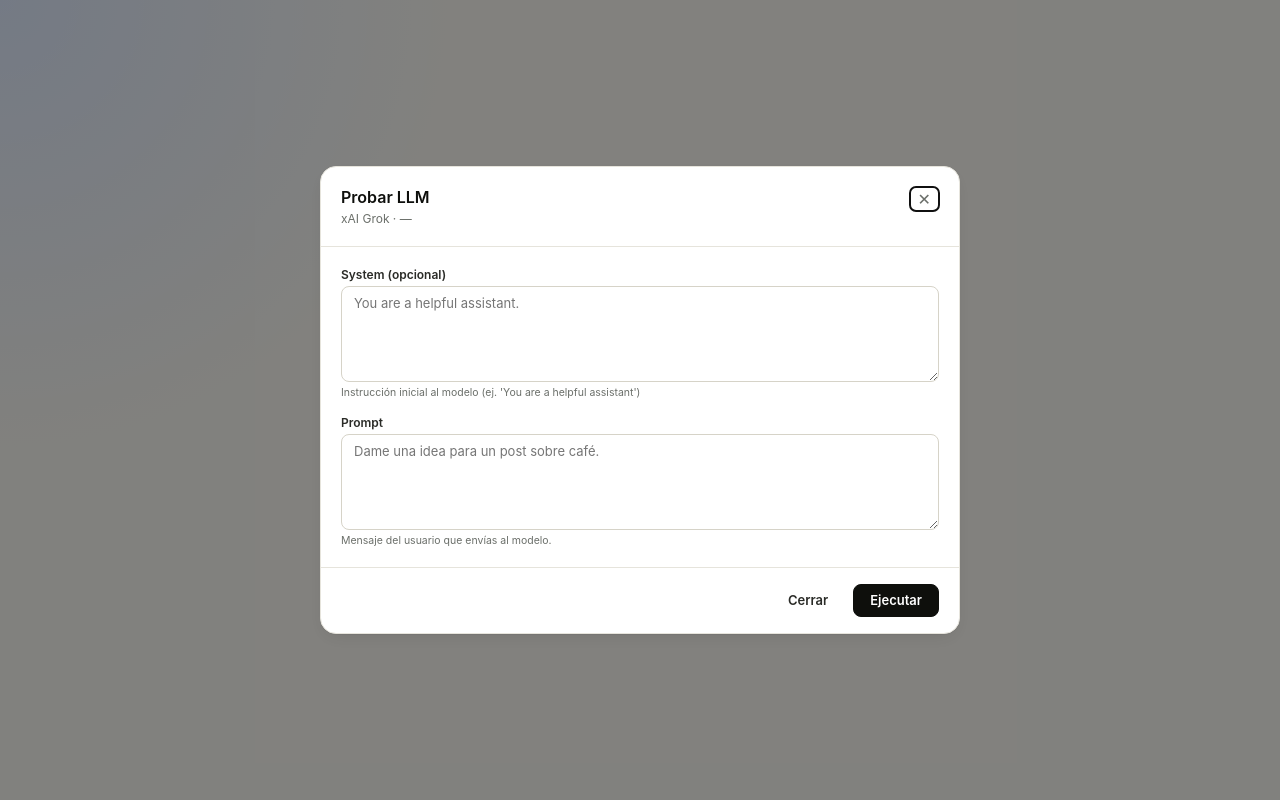
<TestProviderModal/> — render › result error path con StatusBadge FAIL
Type "hi" into the text box with placeholder "Dame una idea para un post sobre café." at [640, 482], box [341,434,939,530]
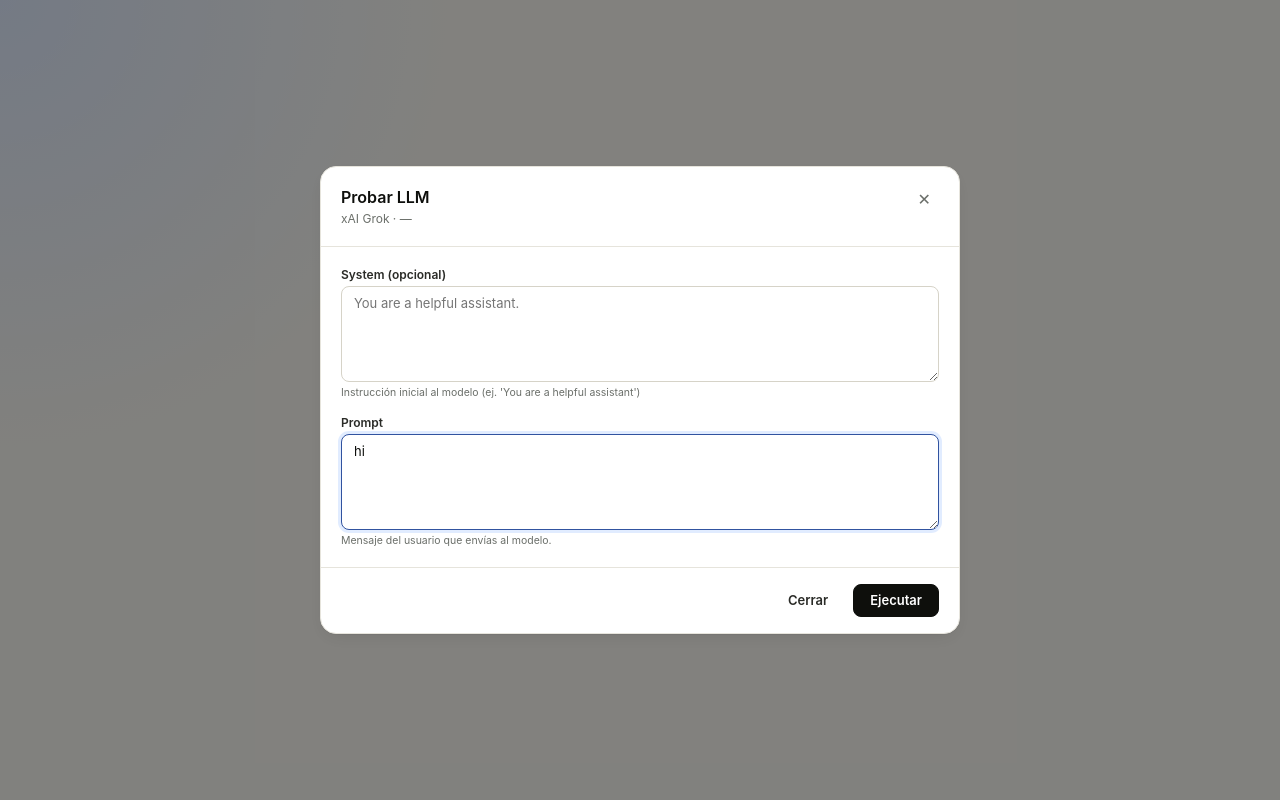
Click the button "Ejecutar" at [896, 600], box [853,584,939,617]
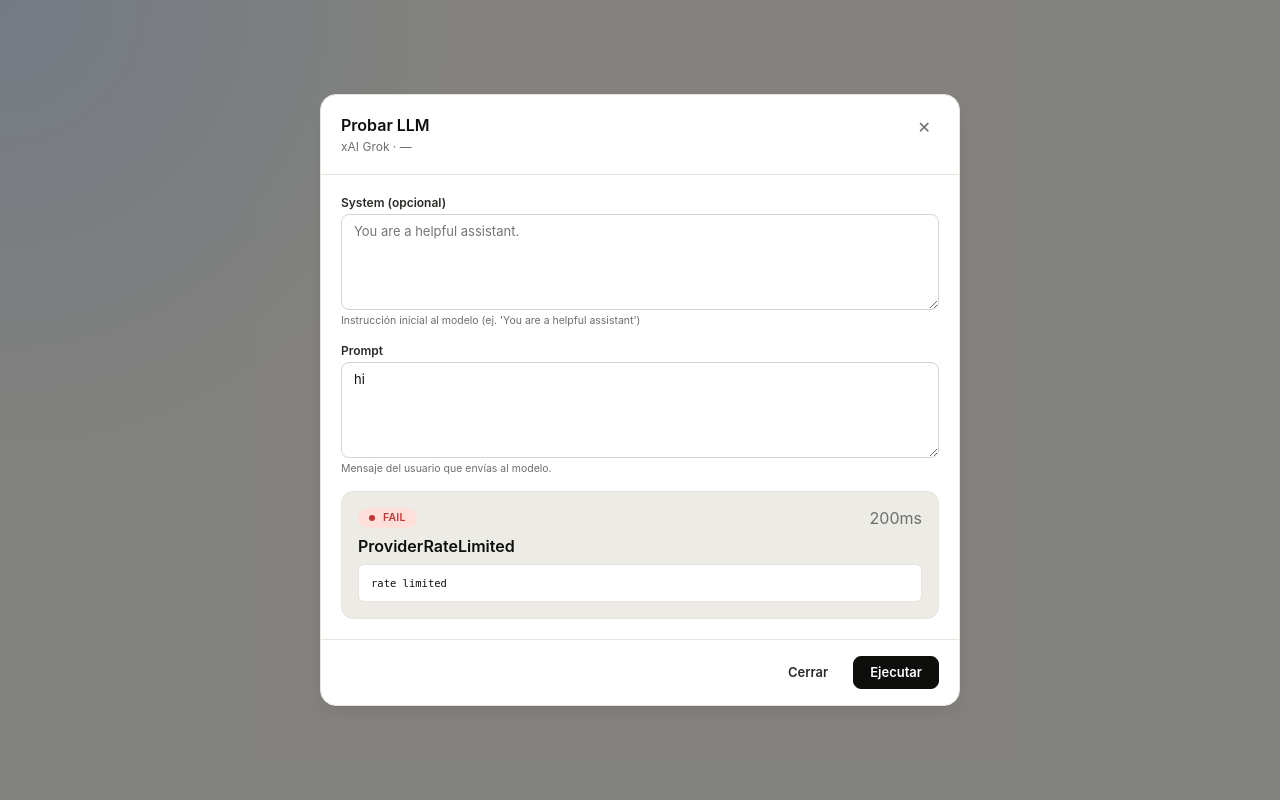
Check: the element with test id "test-result-error" is shown, box [341,491,939,619]
Check: the text "ProviderRateLimited" is shown, box [358,536,515,556]
Check: the text "rate limited" is shown, box [358,564,922,602]
